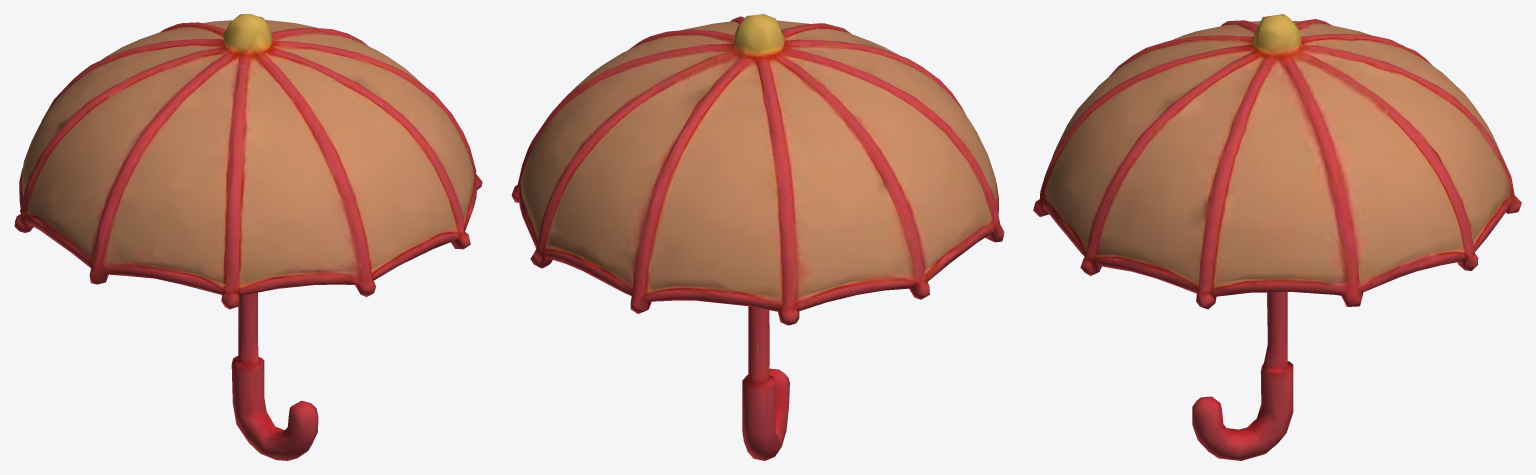
Rendered from umbrella.glb.
3 views of the same model, side by side, from view 1: azimuth 30°, elevation 25°; view 2: azimuth 150°, elevation 25°; view 3: azimuth 270°, elevation 25° (orthographic). The views are drawn at different scales.
Visible parts, largest first — view 1: tripo_node_8e07251a-5e28-44a6-bb59-100c785a5f01; view 2: tripo_node_8e07251a-5e28-44a6-bb59-100c785a5f01; view 3: tripo_node_8e07251a-5e28-44a6-bb59-100c785a5f01.
Boxes of the visible parts, x1,y1,x2,y2 form: tripo_node_8e07251a-5e28-44a6-bb59-100c785a5f01: [14, 14, 482, 460]; tripo_node_8e07251a-5e28-44a6-bb59-100c785a5f01: [511, 14, 1004, 460]; tripo_node_8e07251a-5e28-44a6-bb59-100c785a5f01: [1033, 14, 1521, 460].
Bounding box in the file's own units: 0.3336 × 0.35 × 0.3527.
Materials: 1 (1 with a texture image).
